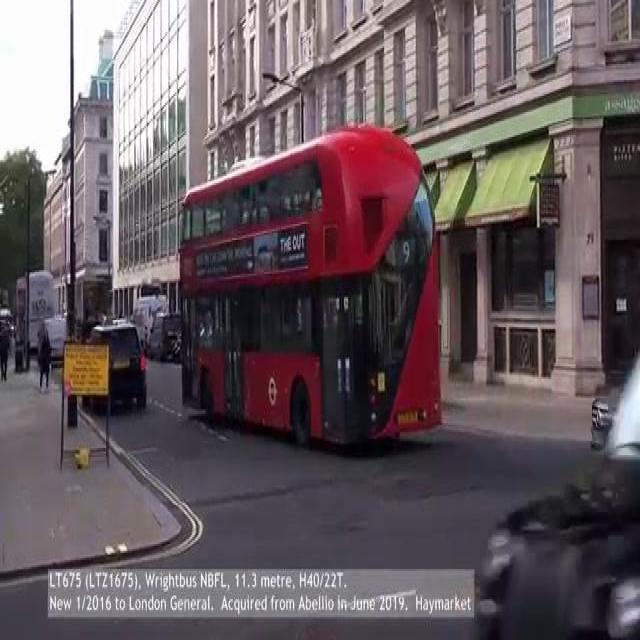motorcycle: (166, 140, 445, 454)
